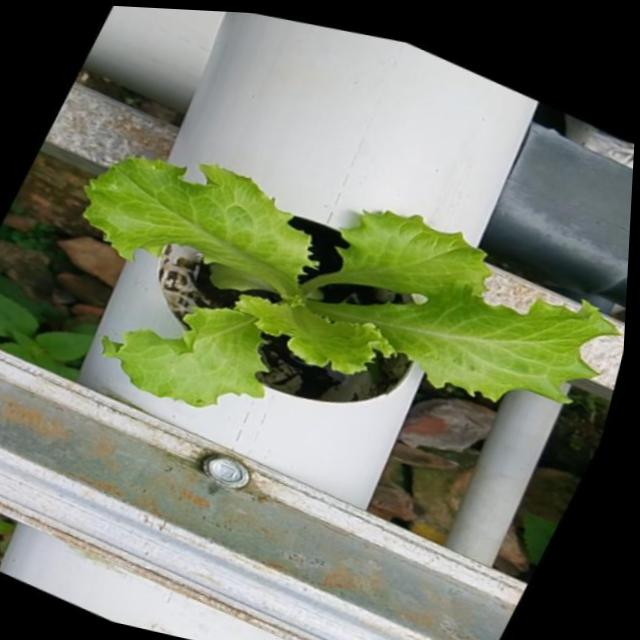Baby: (84, 155, 620, 405)
